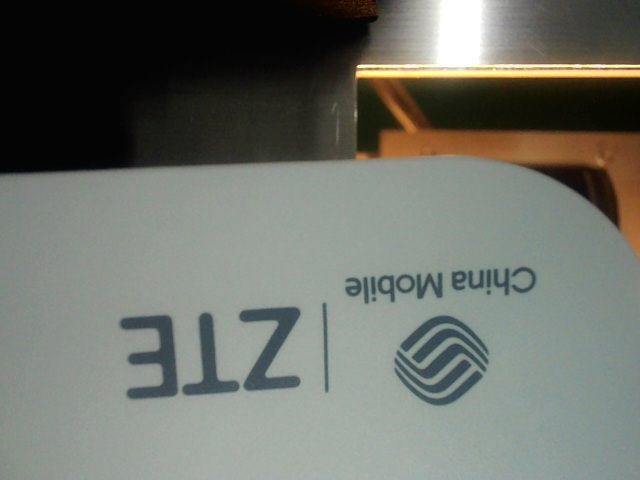AL_ZTEChinaMobile: (109, 258, 555, 409)
